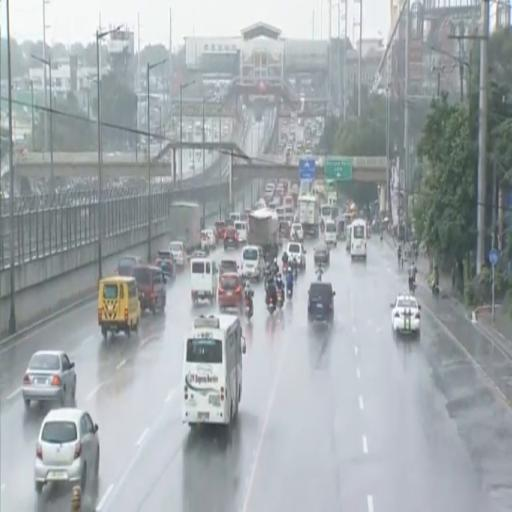bus: (183, 314, 245, 426), (351, 219, 366, 261), (321, 204, 339, 221)
car: (35, 408, 100, 493), (22, 350, 76, 408), (134, 265, 166, 314), (390, 295, 420, 335), (308, 282, 335, 324), (218, 272, 243, 311), (155, 250, 175, 280), (117, 255, 142, 276), (286, 243, 305, 269), (169, 240, 186, 268), (313, 243, 329, 266), (224, 227, 239, 249), (219, 260, 239, 276), (202, 229, 217, 248), (200, 231, 211, 253), (291, 223, 303, 242), (215, 221, 225, 239), (191, 250, 208, 259)
motorcycle: (245, 296, 253, 319), (276, 290, 284, 309), (267, 297, 275, 314), (409, 280, 416, 295), (431, 284, 439, 297), (287, 287, 292, 299), (282, 263, 287, 275)
truck: (170, 202, 203, 253), (248, 208, 279, 262), (298, 195, 319, 237)
